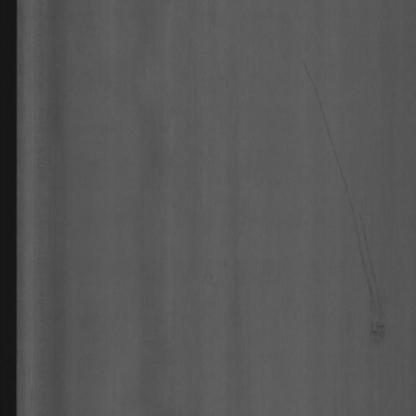water_spot: (337, 181, 396, 358)
